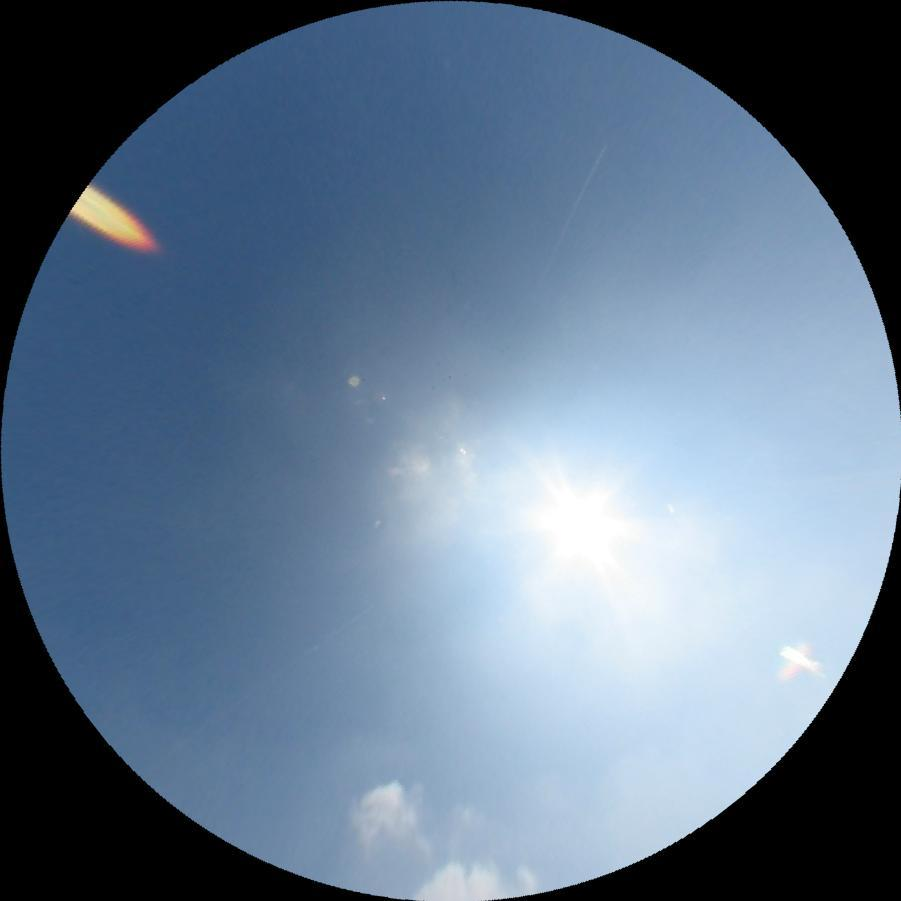contrail young: (534, 145, 605, 286)
sun: (544, 484, 625, 564)
